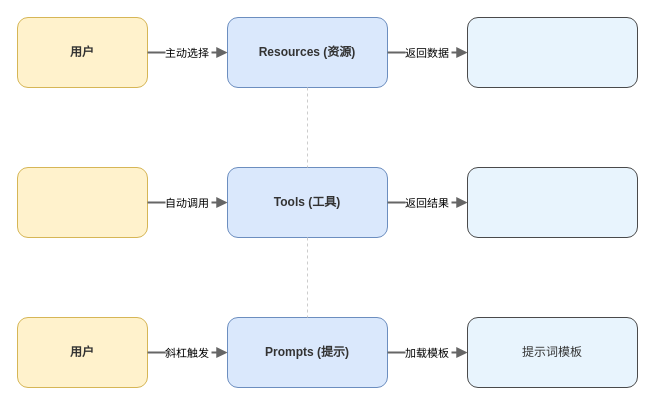
This 655x405 diagram has some shape labels left out. Here are the shapes that lost their labels. From the top down, the centre of each, then its label:
At pixel 552 52: "文件、汇总报告".
At pixel 82 202: "模型".
At pixel 552 202: "查询、计算结果".
